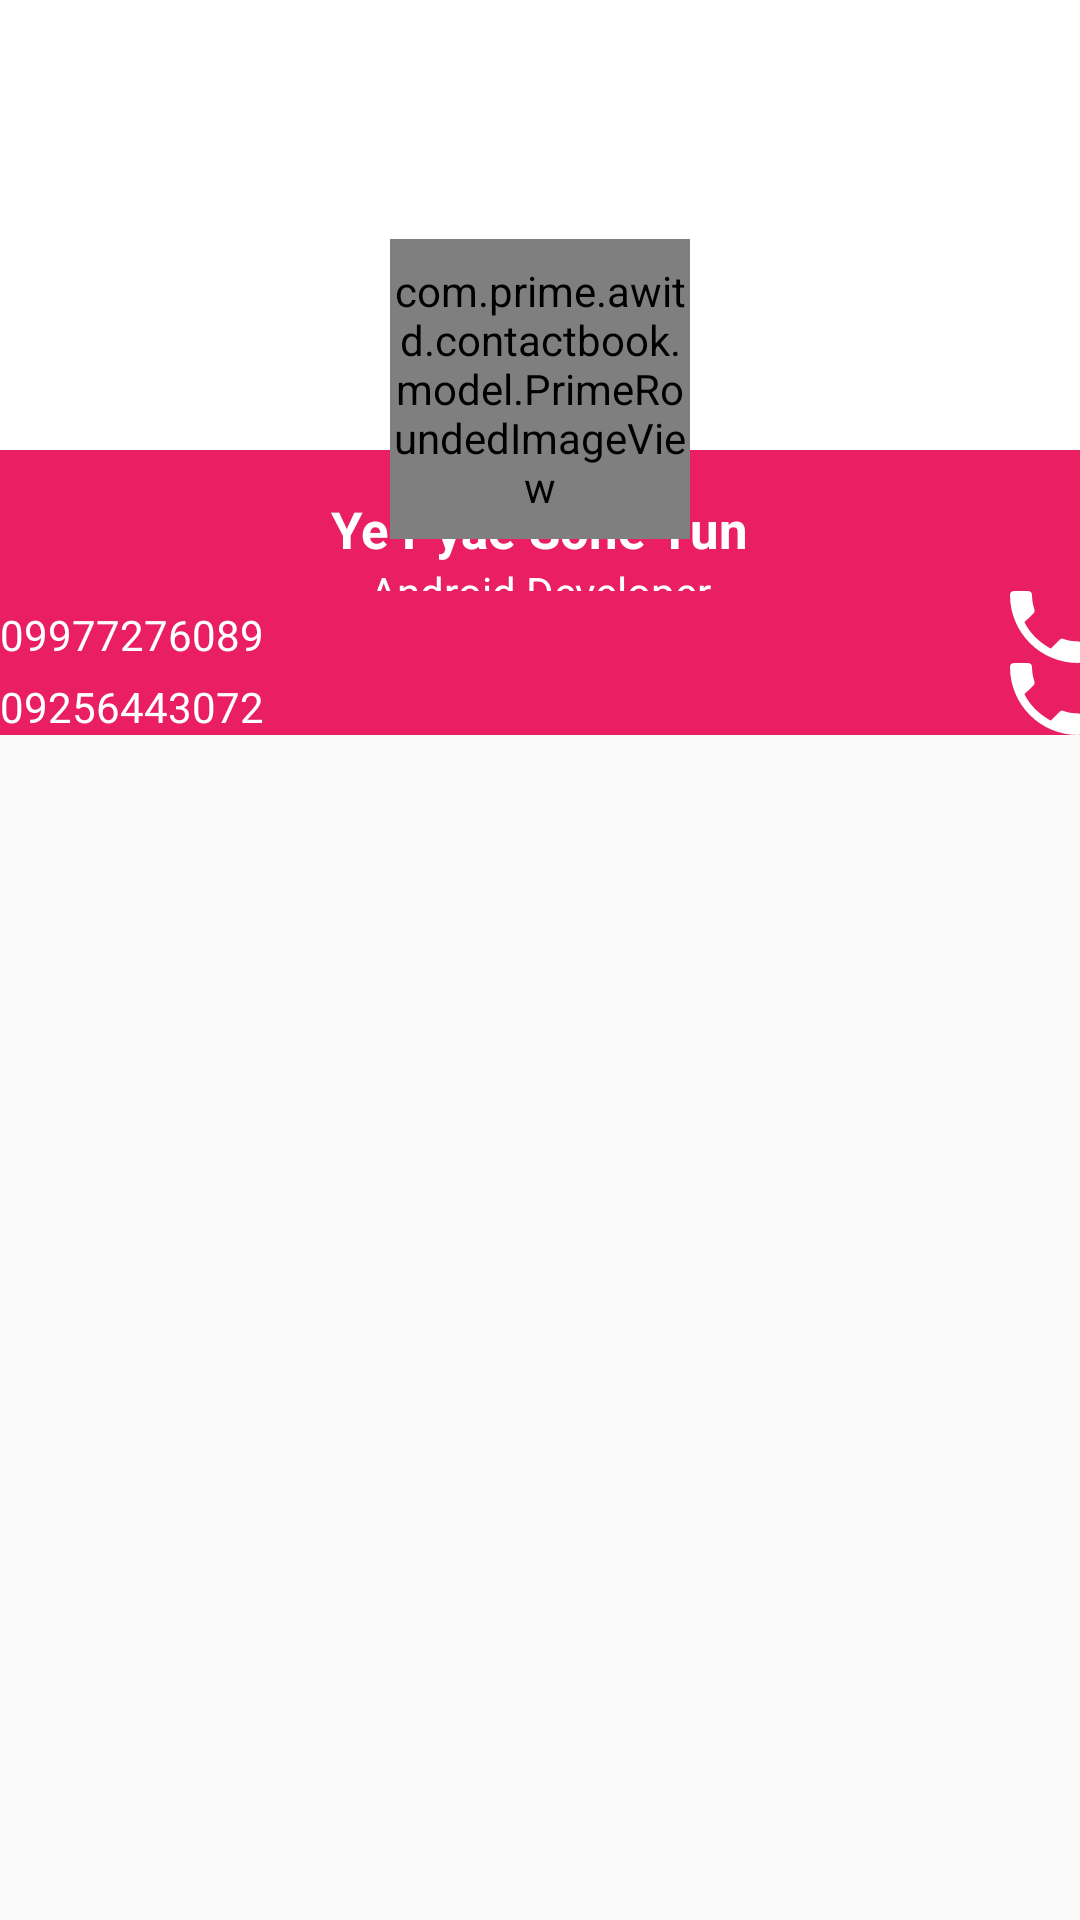

Where to tap for icons on this 1080px×1920px app screen, as [x,y]:
phone call: [1045,627], [1045,699]
